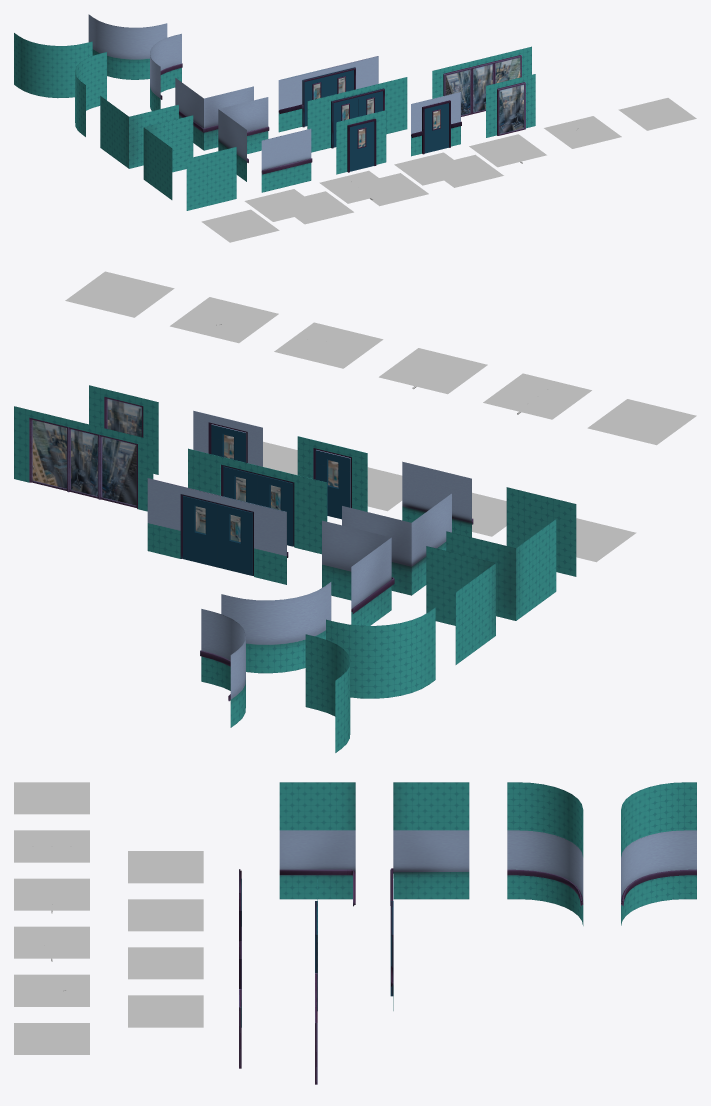
File: Modulair assets.fbx
3 views of the same model, one above another, from view 1: azimuth 30°, elevation 25°; view 2: azimuth 150°, elevation 25°; view 3: azimuth 270°, elevation 25° (orthographic). The views are drawn at different scales.
Visible parts, largest first — view 1: Wall_WhiteWallCornerSmooth.001, Wall_WhiteWallCornerSmoothRail.001, Wall_WhiteWallCorner90.001, Wall_WhiteWallDoubleDoor, Wall_WhiteWallCorner90, Wall_WhiteWallRailCorner90.001, Wall_WhiteWallRail, Wall_WhiteWall, BigWindowWall, Wall_WhiteWallDoubleDoor.001, Wall_WhiteWallRailCorner90, Wall_WhiteWallCornerSmooth (+23 smaller); view 2: Wall_WhiteWallCornerSmooth, Wall_WhiteWallCornerSmoothRail, Wall_WhiteWallCorner90, Wall_WhiteWallDoubleDoor.001, Wall_WhiteWallCorner90.001, Wall_WhiteWallRailCorner90, Wall_WhiteWallRailCorner90.001, Wall_WhiteWallDoubleDoor, Wall_WhiteWallCornerSmooth.001, Wall_WhiteWall, Wall_WhiteWallCornerSmoothRail.001, Wall_WhiteWallRail (+23 smaller); view 3: Wall_WhiteWallRailCorner90.001, Wall_WhiteWallRailCorner90, Wall_WhiteWallCornerSmoothRail, Wall_WhiteWallCornerSmoothRail.001, Wall_WhiteWallCorner90.001, Wall_WhiteWallCorner90, Wall_WhiteWallCornerSmooth, Wall_WhiteWallCornerSmooth.001, Ceiling_WhiteRailCorner90.001, Ceiling_WhiteRailCorner90, Floor_Plastic, Floor_PlasticDirty (+8 smaller).
Part boxes in pixels (bbox=[...]): Wall_WhiteWallCornerSmooth.001: bbox=[14, 33, 92, 98]; Wall_WhiteWallCornerSmoothRail.001: bbox=[88, 14, 167, 79]; Wall_WhiteWallCorner90.001: bbox=[143, 115, 193, 199]; Wall_WhiteWallDoubleDoor: bbox=[307, 77, 407, 152]; Wall_WhiteWallCorner90: bbox=[100, 96, 178, 168]; Wall_WhiteWallRailCorner90.001: bbox=[218, 97, 269, 181]; Wall_WhiteWallRail: bbox=[261, 128, 312, 192]; Wall_WhiteWall: bbox=[186, 147, 236, 210]; BigWindowWall: bbox=[486, 74, 535, 137]; Wall_WhiteWallDoubleDoor.001: bbox=[278, 56, 378, 132]; Wall_WhiteWallRailCorner90: bbox=[175, 78, 253, 150]; Wall_WhiteWallCornerSmooth: bbox=[75, 52, 106, 136]; Wall_WhiteWallCornerSmooth: bbox=[326, 607, 435, 698]; Wall_WhiteWallCornerSmoothRail: bbox=[221, 582, 331, 673]; Wall_WhiteWallCorner90: bbox=[426, 546, 495, 664]; Wall_WhiteWallDoubleDoor.001: bbox=[147, 478, 288, 584]; Wall_WhiteWallCorner90.001: bbox=[446, 519, 556, 620]; Wall_WhiteWallRailCorner90: bbox=[322, 520, 391, 625]; Wall_WhiteWallRailCorner90.001: bbox=[342, 493, 451, 595]; Wall_WhiteWallDoubleDoor: bbox=[188, 448, 327, 554]; Wall_WhiteWallCornerSmooth.001: bbox=[305, 634, 350, 752]; Wall_WhiteWall: bbox=[506, 487, 576, 576]; Wall_WhiteWallCornerSmoothRail.001: bbox=[201, 609, 245, 727]; Wall_WhiteWallRail: bbox=[402, 461, 473, 537]; Wall_WhiteWallRailCorner90.001: bbox=[279, 830, 355, 906]; Wall_WhiteWallRailCorner90: bbox=[393, 830, 469, 899]; Wall_WhiteWallCornerSmoothRail: bbox=[507, 830, 583, 925]; Wall_WhiteWallCornerSmoothRail.001: bbox=[621, 830, 696, 925]; Wall_WhiteWallCorner90.001: bbox=[279, 782, 355, 830]; Wall_WhiteWallCorner90: bbox=[393, 782, 469, 830]; Wall_WhiteWallCornerSmooth: bbox=[507, 782, 583, 857]; Wall_WhiteWallCornerSmooth.001: bbox=[621, 782, 696, 856]; Ceiling_WhiteRailCorner90.001: bbox=[14, 878, 89, 913]; Ceiling_WhiteRailCorner90: bbox=[14, 926, 89, 961]; Floor_Plastic: bbox=[128, 851, 203, 883]; Floor_PlasticDirty: bbox=[128, 899, 203, 931].
Bounding box in the file's own units: 1700 × 200 × 1800.
